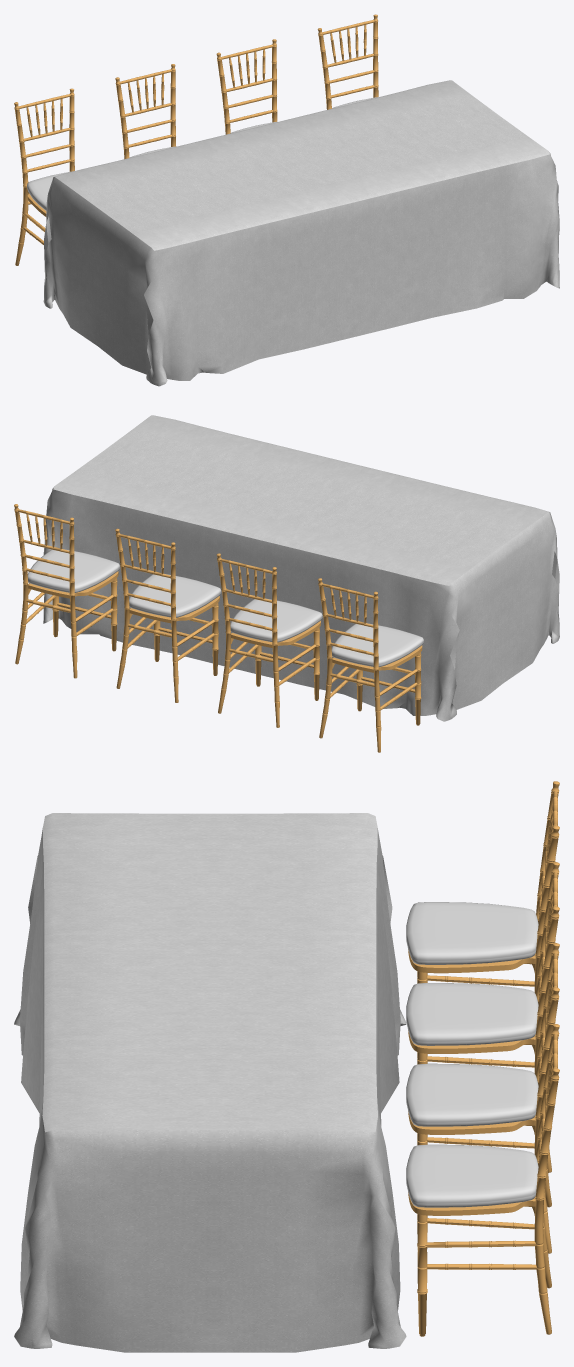
Rendered from banquet-4pax-243x121.glb.
The picture shows the model from 3 angles, top to bottom: view 1: azimuth 30°, elevation 25°; view 2: azimuth 150°, elevation 25°; view 3: azimuth 270°, elevation 25°; orthographic projection. The views are drawn at different scales.
Visible parts, largest first — view 1: 4pax; view 2: 4pax; view 3: 4pax.
Boxes of the visible parts, box(x1,y1,x2,y2) form: 4pax: box(14, 14, 559, 386); 4pax: box(14, 415, 559, 752); 4pax: box(14, 781, 559, 1352).
Bounding box in the file's own units: 241 × 90.7 × 168.
3 materials, 1 textured.
